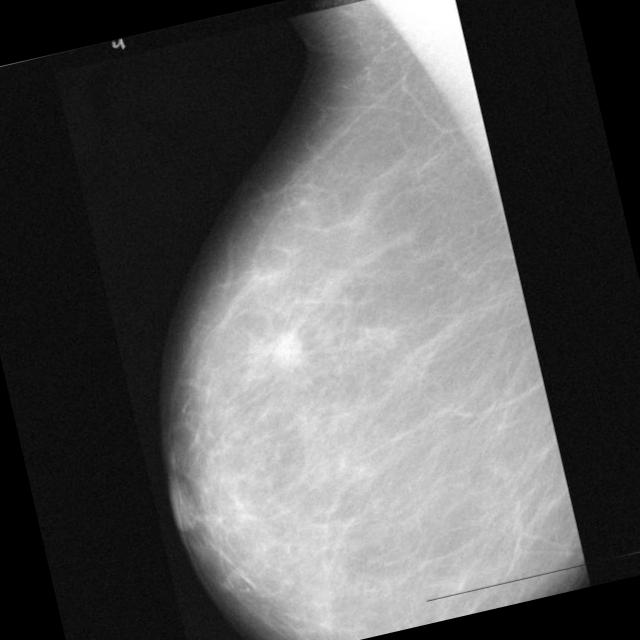ARCH: (215, 278, 356, 420)
